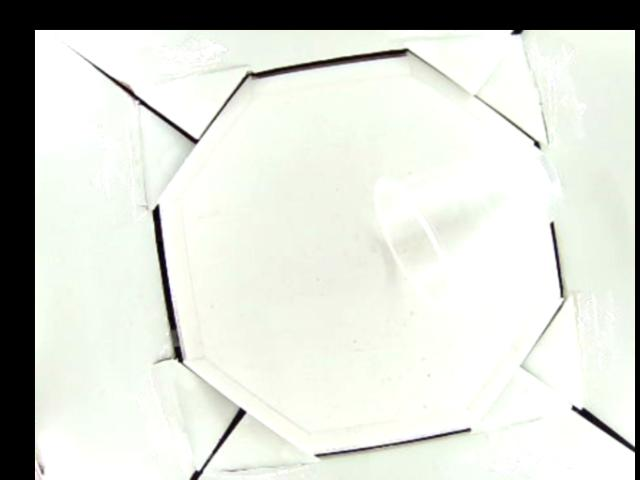Cup: (371, 140, 564, 312)
